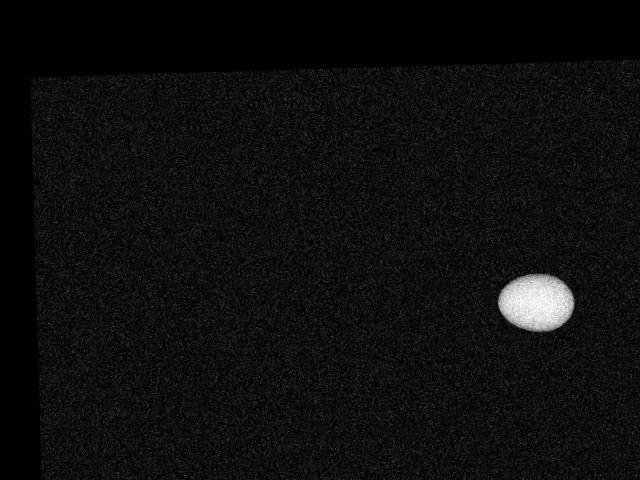egg: (498, 271, 575, 332)
